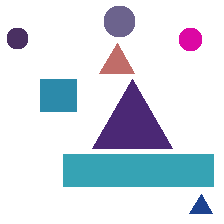circle: (104, 6, 134, 36), (179, 28, 201, 50), (7, 28, 27, 48)
rectangle: (63, 154, 213, 186), (40, 79, 76, 111)
triangle: (92, 79, 172, 148), (99, 43, 134, 73), (189, 194, 212, 213)
